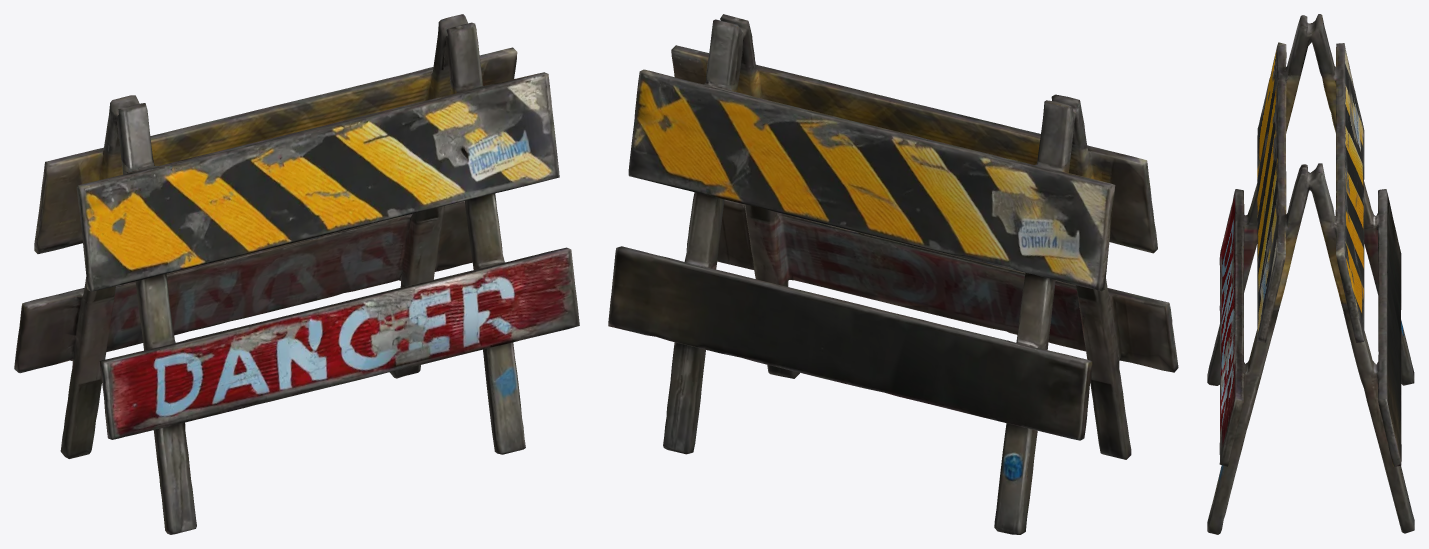
File: danger_barrier_proops.glb
3 renders of one model, left to right at view 1: azimuth 30°, elevation 25°; view 2: azimuth 150°, elevation 25°; view 3: azimuth 270°, elevation 25°, orthographic. The views are drawn at different scales.
Visible parts, largest first — view 1: Mesh1_Material_0.001_0; view 2: Mesh1_Material_0.001_0; view 3: Mesh1_Material_0.001_0.
Part boxes in pixels (x1,y1,x2,y2): Mesh1_Material_0.001_0: [14, 14, 579, 534]; Mesh1_Material_0.001_0: [608, 14, 1178, 534]; Mesh1_Material_0.001_0: [1207, 14, 1414, 534].
Bounding box in the file's own units: 2 × 1.61 × 0.832.
1 material, 1 textured.
